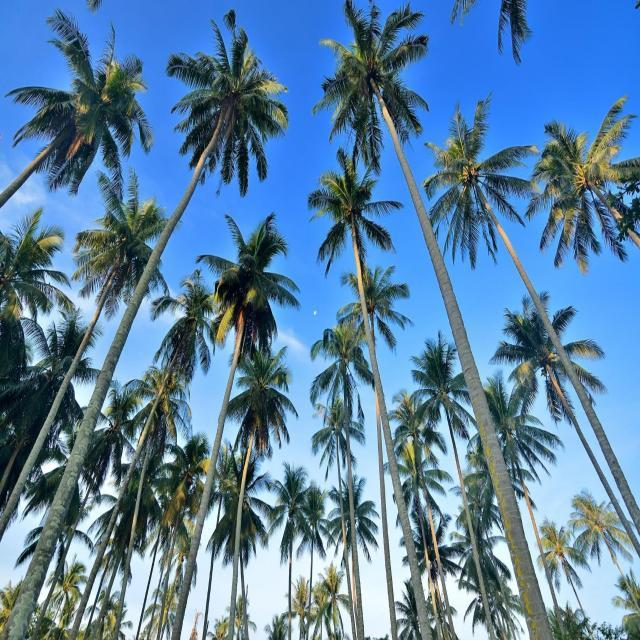Coconut-tree: (193, 29, 306, 217), (313, 19, 467, 147), (41, 50, 157, 196), (225, 223, 308, 383)
